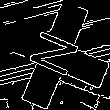N_SE: (24, 27, 86, 83)
